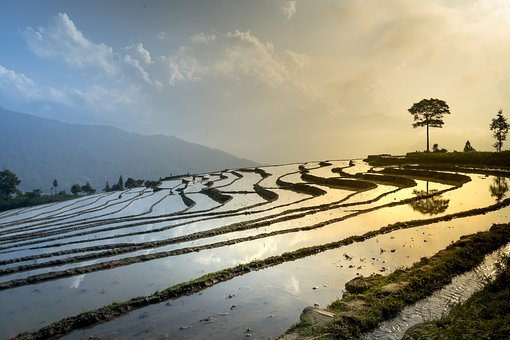field: (10, 152, 507, 329)
sky: (8, 5, 504, 143)
tree: (403, 87, 450, 151)
